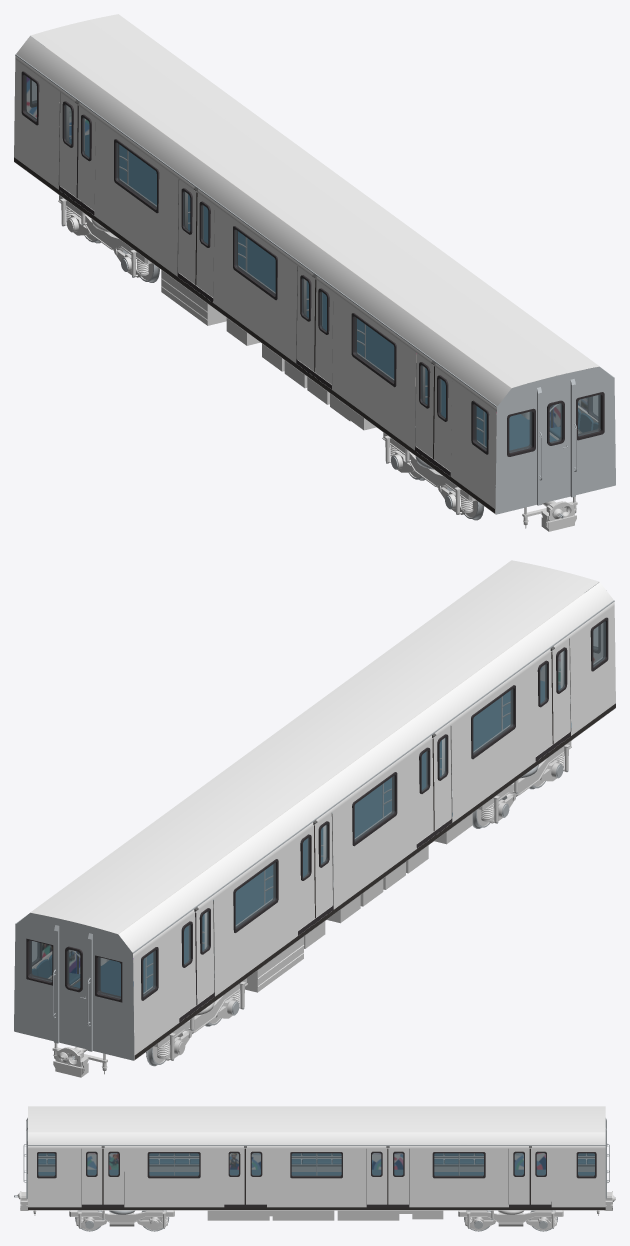
File: car-6.glb
3 views of the same model, one above another, from view 1: azimuth 30°, elevation 25°; view 2: azimuth 150°, elevation 25°; view 3: azimuth 270°, elevation 25° (orthographic). The views are drawn at different scales.
Visible parts, largest first — view 1: Mesh492.041, Mesh589.005, Mesh253.009, Mesh560.005, Mesh524.010, Cube.381, Cube.382, Cube.380, Mesh11.005, Mesh511.005, Mesh31.005, Cube.419 (+8 smaller); view 2: Mesh492.041, Mesh589.005, Mesh584.005, Mesh253.010, Mesh510.010, Cube.380, Cube.381, Cube.382, Mesh11.005, Mesh511.005, Mesh27.005, Cube.430 (+8 smaller); view 3: Mesh492.041, Mesh492.042, Cube.374, Cube.375, Cube.373, Mesh589.005, Mesh5.005, Mesh4.005, Mesh9.005, Mesh256.005, Mesh278.005, Mesh283.005 (+24 smaller).
Part boxes in pixels (x1,y1,x2,y2): Mesh492.041: (14,14,599,514); Mesh589.005: (69,134,556,450); Mesh253.009: (495,376,555,514); Mesh560.005: (555,366,615,499); Mesh524.010: (542,395,570,493); Cube.381: (235,230,275,295); Cube.382: (116,143,156,208); Cube.380: (354,317,394,382); Mesh11.005: (161,270,226,325); Mesh511.005: (15,54,497,407); Mesh31.005: (541,500,576,531); Cube.419: (578,394,600,436); Mesh492.041: (30,560,615,1060); Mesh589.005: (73,681,571,995); Mesh584.005: (74,922,134,1060); Mesh253.010: (14,913,73,1045); Mesh510.010: (59,941,87,1039); Cube.380: (473,689,513,754); Cube.381: (354,775,394,841); Cube.382: (235,862,275,928); Mesh11.005: (245,937,303,992); Mesh511.005: (132,600,614,953); Mesh27.005: (53,1047,88,1077); Cube.430: (29,940,52,981); Mesh492.041: (28,1106,605,1210); Mesh492.042: (87,1153,545,1169); Cube.374: (291,1153,341,1175); Cube.375: (149,1153,199,1175); Cube.373: (434,1153,483,1175); Mesh589.005: (38,1170,594,1175); Mesh5.005: (207,1210,269,1220); Mesh4.005: (337,1210,399,1220); Mesh9.005: (272,1210,334,1220); Mesh256.005: (511,1210,563,1229); Mesh278.005: (122,1210,174,1229); Mesh283.005: (69,1210,121,1229).
Bounding box in the file's own units: 2.67 × 3.63 × 19.13.
Materials: 58 (1 with a texture image).
